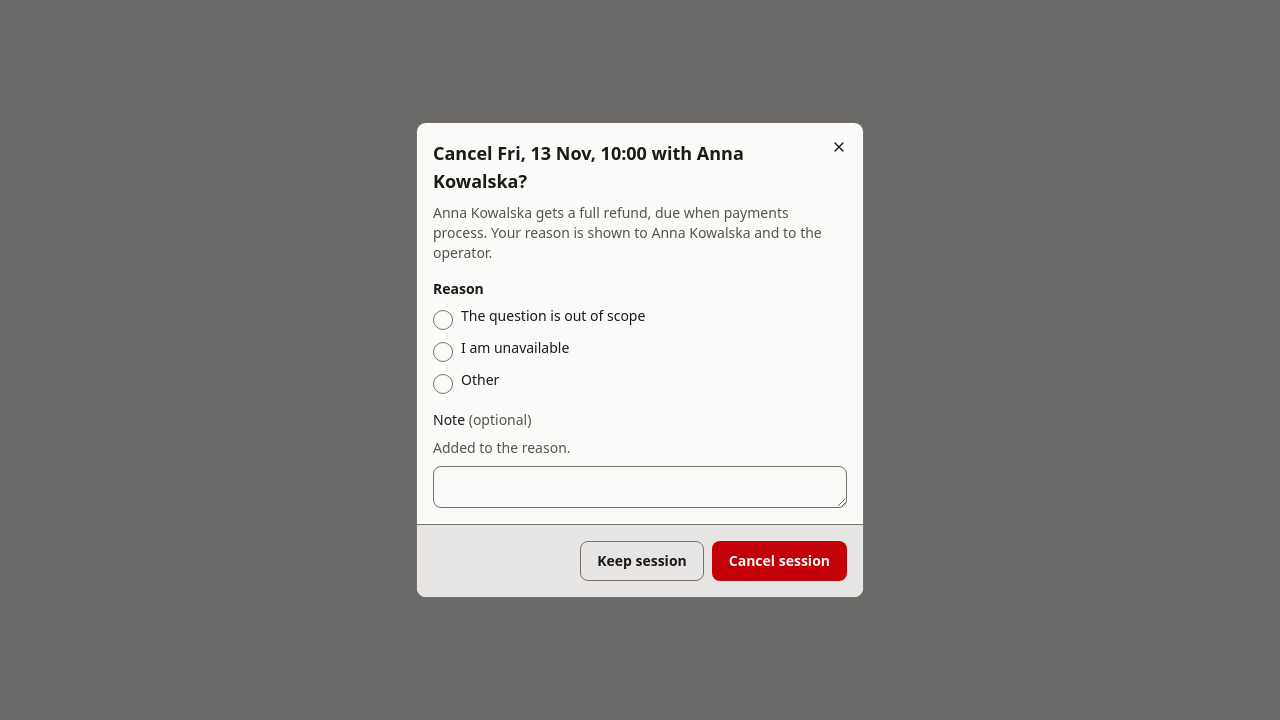
CancelDialog for a mentor › requires a reason, sends nothing and focuses the first reason
Click the button "Cancel session". click: point(779, 562)
box: [712, 542, 847, 582]
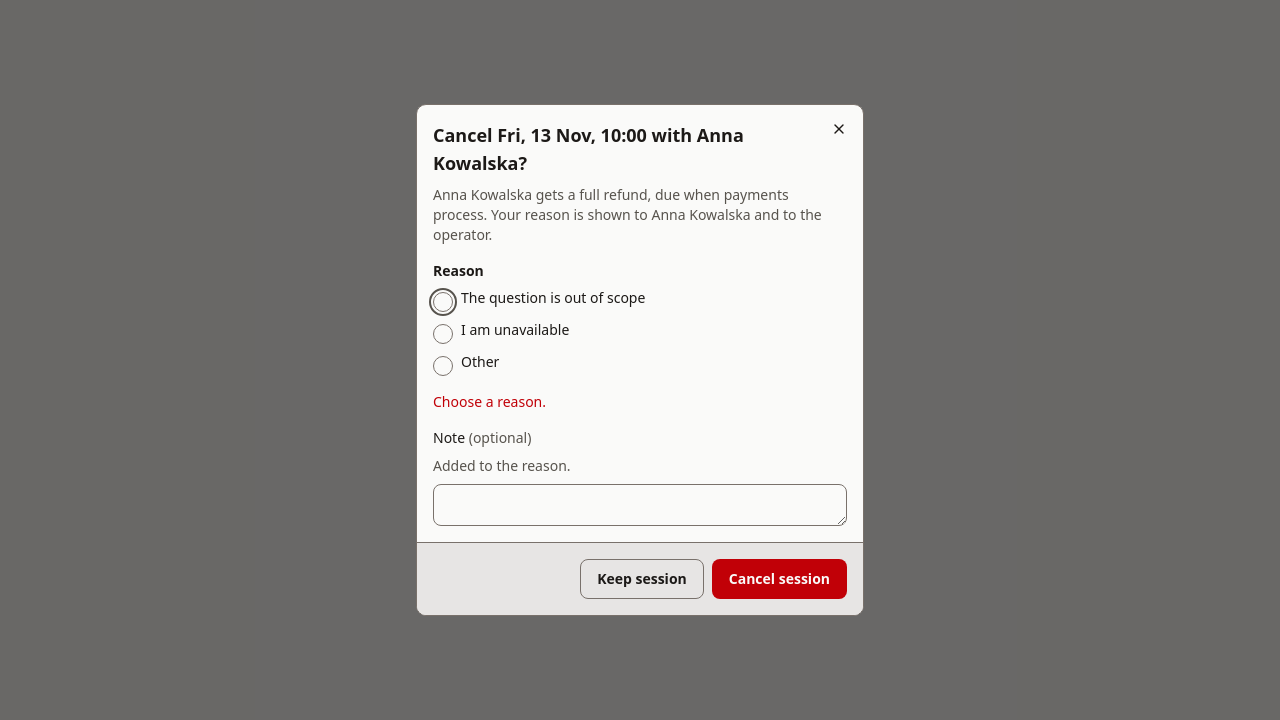
Check: the message reads "Choose a reason.", box [433, 392, 546, 412]
